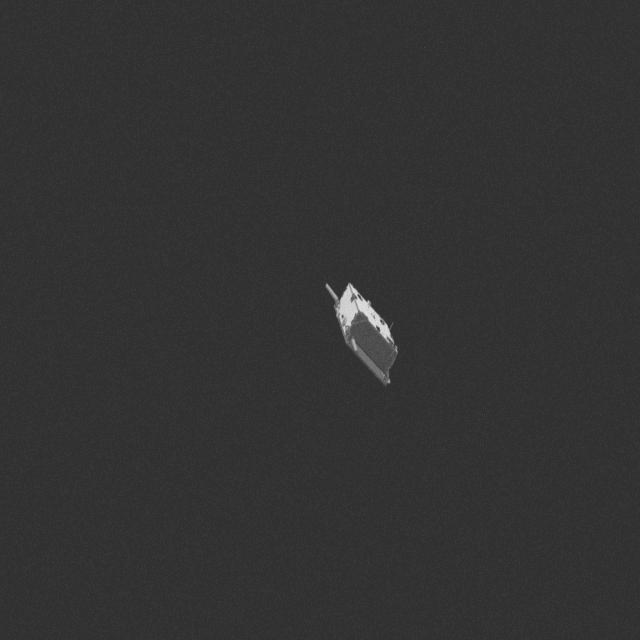medium_debris: (316, 268, 410, 388)
